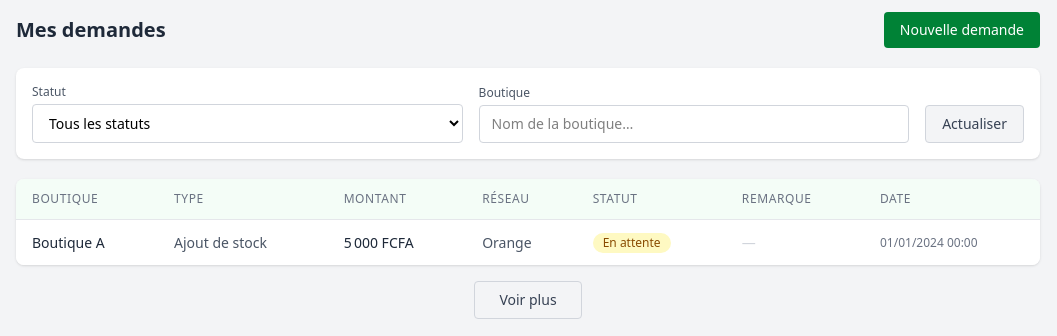
Test case: TC-041-CURSOR-D — Pagination curseur Dealer › [CURSOR-D-04] priorité snapshot — extra stale, snapshot met à jour le statut
The width and height of the screenshot is (1057, 336).
Click the button with test id "btn-load-more". click: point(528, 300)
box: x1=474 y1=281 x2=582 y2=319
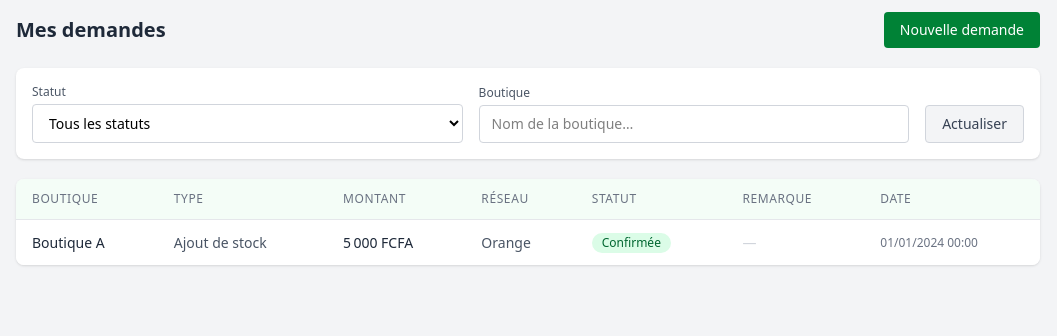
Expected: the text "Confirmée" is shown, x1=592 y1=233 x2=671 y2=253
